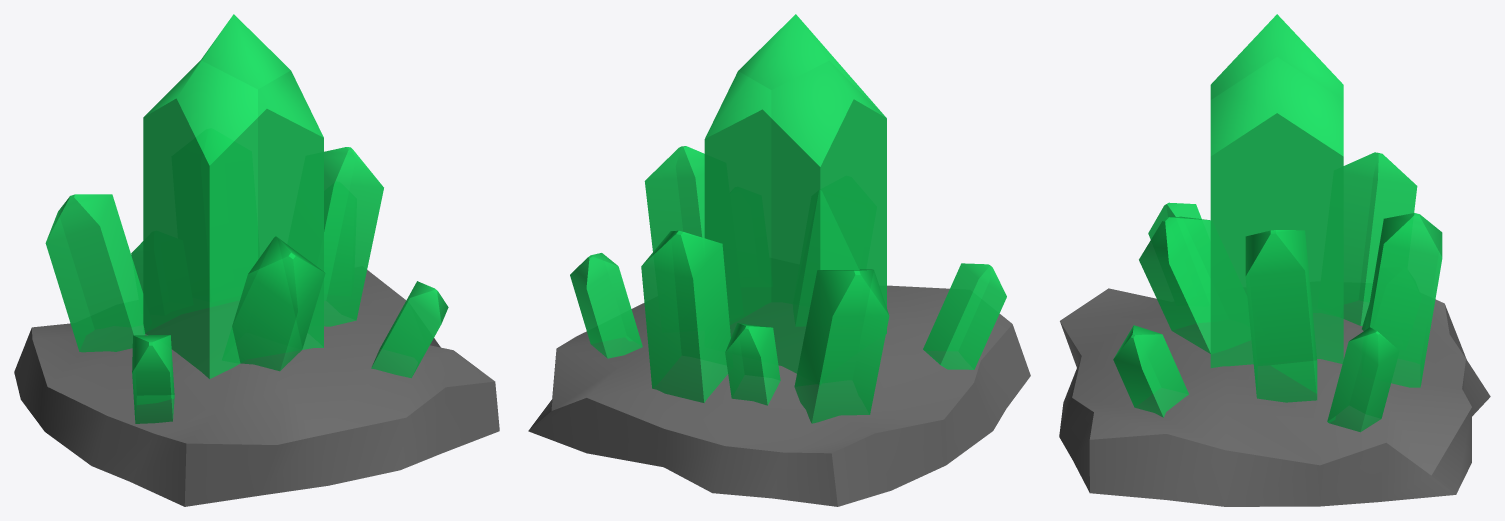
File: Crystal 2.fbx
3 views of the same model, side by side, from view 1: azimuth 30°, elevation 25°; view 2: azimuth 150°, elevation 25°; view 3: azimuth 270°, elevation 25° (orthographic).
Visible parts, largest first — view 1: Crystal, Box004, Box005, Box008, Box003, Box010, Box009; view 2: Crystal, Box004, Box002, Box005, Box009, Box007, Box003, Box006, Box008; view 3: Crystal, Box004, Box003, Box008, Box002, Box005, Box007, Box010, Box009.
Boxes of the visible parts, left/top/right/bottom form: Crystal: left=14, top=270, right=499, bottom=506; Box004: left=143, top=14, right=323, bottom=378; Box005: left=45, top=194, right=145, bottom=352; Box008: left=222, top=236, right=325, bottom=371; Box003: left=324, top=147, right=383, bottom=326; Box010: left=371, top=281, right=448, bottom=378; Box009: left=132, top=335, right=174, bottom=423; Crystal: left=528, top=285, right=1030, bottom=506; Box004: left=704, top=14, right=886, bottom=384; Box002: left=641, top=230, right=730, bottom=402; Box005: left=794, top=269, right=889, bottom=423; Box009: left=923, top=263, right=1006, bottom=369; Box007: left=570, top=253, right=642, bottom=358; Box003: left=644, top=146, right=704, bottom=251; Box006: left=725, top=323, right=780, bottom=405; Box008: left=793, top=190, right=858, bottom=325; Crystal: left=1059, top=288, right=1490, bottom=506; Box004: left=1210, top=14, right=1343, bottom=367; Box003: left=1245, top=230, right=1317, bottom=402; Box008: left=1139, top=216, right=1250, bottom=353; Box002: left=1365, top=213, right=1442, bottom=387; Box005: left=1341, top=152, right=1417, bottom=325; Box007: left=1327, top=327, right=1399, bottom=432; Box010: left=1113, top=325, right=1188, bottom=417; Box009: left=1148, top=202, right=1201, bottom=239.
Size of the model in its own units: 27.7 by 28 by 27.79.
